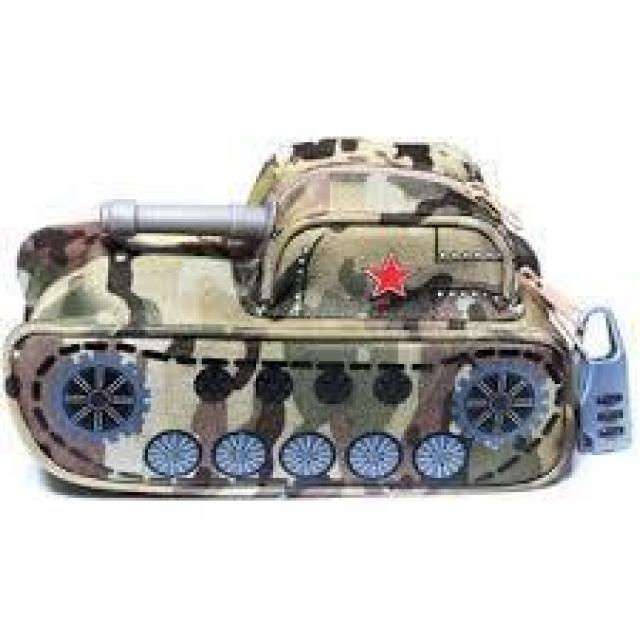Tanks: (13, 131, 630, 515)
